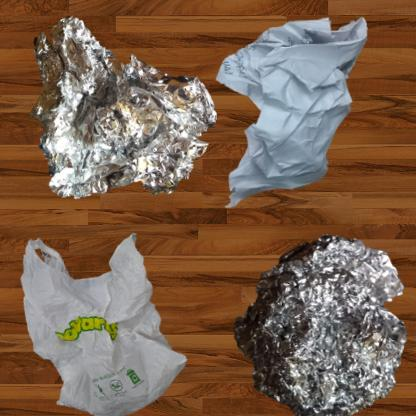aluminio: (10, 10, 233, 224), (213, 213, 416, 416)
bolsa: (10, 213, 204, 416)
papel: (213, 10, 374, 209)
